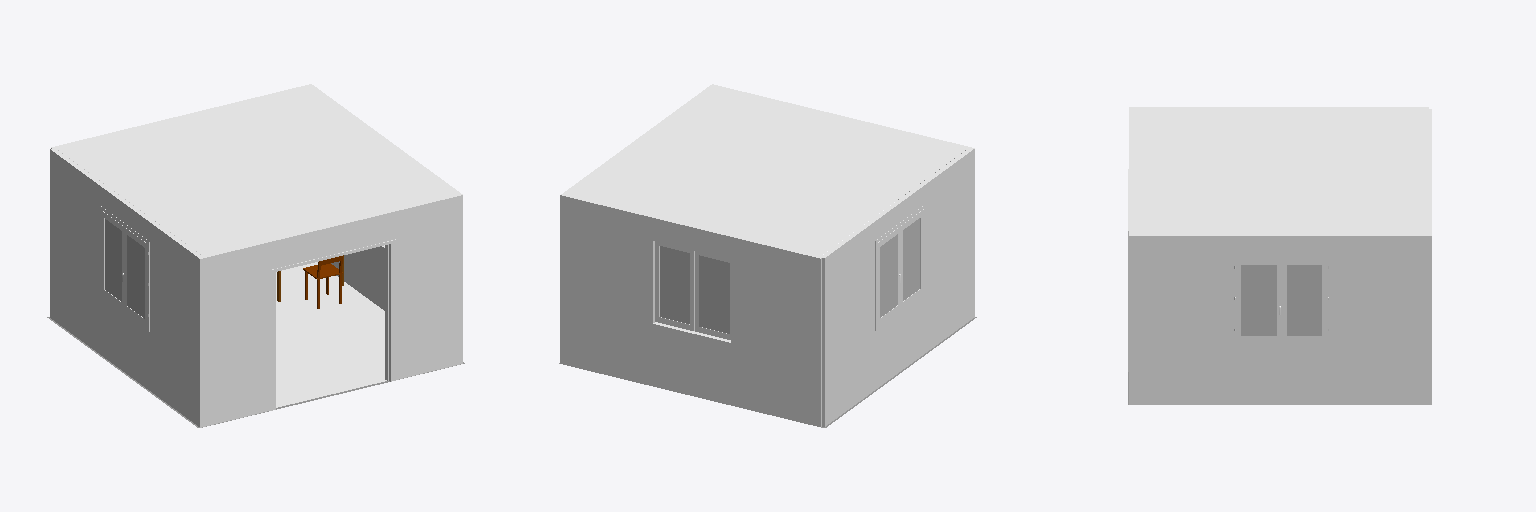
Rendered from DERV_1_U1_Estrcutura02.obj.
3 renders of one model, left to right at view 1: azimuth 30°, elevation 25°; view 2: azimuth 150°, elevation 25°; view 3: azimuth 270°, elevation 25°, orthographic.
Visible parts, largest first — view 1: room_5_27, wall_3_16, wall_4_22, room_5_26, Montant_28, wall_2_11, sweethome3d_window_pane_on_hinge_2_73, sweethome3d_window_pane_on_hinge_1_68, sweethome3d_opening_on_hinge_1_67, sweethome3d_opening_on_hinge_2_72, frame_61; view 2: wall_1_4, room_5_27, wall_4_22, sweethome3d_window_pane_on_hinge_1_55, sweethome3d_window_pane_on_hinge_2_60, frame_48, sweethome3d_window_pane_on_hinge_1_68, sweethome3d_window_pane_on_hinge_2_73, sweethome3d_opening_on_hinge_2_59, sweethome3d_opening_on_hinge_1_67, sweethome3d_opening_on_hinge_2_72, sweethome3d_opening_on_hinge_1_54 (+1 smaller); view 3: wall_2_10, room_5_27, sweethome3d_window_pane_on_hinge_1_42, sweethome3d_window_pane_on_hinge_2_47, sweethome3d_opening_on_hinge_1_41, frame_35, sweethome3d_opening_on_hinge_2_46, wall_4_24, wall_2_13.
Boxes of the visible parts, box(x1,y1,x2,y2) form: room_5_27: box(56, 85, 459, 255); wall_3_16: box(200, 195, 462, 427); wall_4_22: box(50, 149, 199, 426); room_5_26: box(276, 262, 386, 407); Montant_28: box(270, 239, 396, 410); wall_2_11: box(331, 247, 384, 310); sweethome3d_window_pane_on_hinge_2_73: box(127, 235, 144, 318); sweethome3d_window_pane_on_hinge_1_68: box(105, 219, 121, 301); sweethome3d_opening_on_hinge_1_67: box(101, 210, 124, 309); sweethome3d_opening_on_hinge_2_72: box(125, 228, 147, 326); frame_61: box(100, 206, 149, 331); wall_1_4: box(560, 195, 821, 426); room_5_27: box(565, 85, 967, 255); wall_4_22: box(822, 149, 974, 426); sweethome3d_window_pane_on_hinge_1_55: box(699, 255, 729, 333); sweethome3d_window_pane_on_hinge_2_60: box(660, 246, 689, 323); frame_48: box(649, 237, 734, 347); sweethome3d_window_pane_on_hinge_1_68: box(880, 234, 897, 317); sweethome3d_window_pane_on_hinge_2_73: box(903, 218, 919, 300); sweethome3d_opening_on_hinge_2_59: box(655, 241, 694, 330); sweethome3d_opening_on_hinge_1_67: box(877, 226, 900, 325); sweethome3d_opening_on_hinge_2_72: box(901, 209, 923, 308); sweethome3d_opening_on_hinge_1_54: box(695, 251, 730, 339); wall_2_10: box(1129, 236, 1431, 404); room_5_27: box(1131, 110, 1426, 235); sweethome3d_window_pane_on_hinge_1_42: box(1241, 265, 1276, 335); sweethome3d_window_pane_on_hinge_2_47: box(1287, 265, 1321, 335); sweethome3d_opening_on_hinge_1_41: box(1236, 259, 1282, 341); frame_35: box(1233, 255, 1330, 345); sweethome3d_opening_on_hinge_2_46: box(1283, 259, 1327, 341); wall_4_24: box(1129, 107, 1428, 108); wall_2_13: box(1132, 233, 1428, 234).
Bounding box in the file's own units: 413 × 250 × 409.